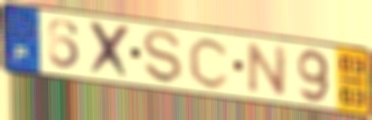6: (46, 18, 82, 72)
9: (295, 47, 332, 105)
C: (187, 35, 233, 90)
N: (245, 40, 290, 98)
S: (140, 29, 185, 86)
X: (87, 19, 134, 83)
